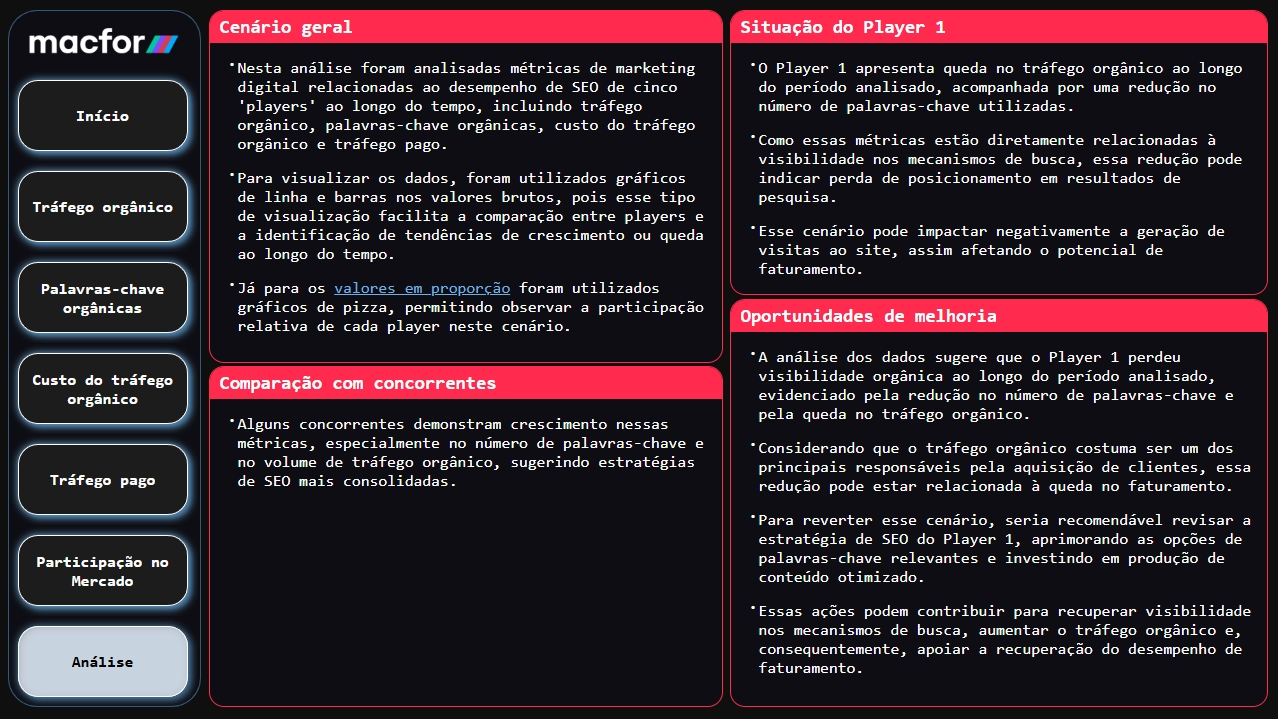

Layout of this report page (visuals, bound fields, positions):
{"tool":"powerbi","page":{"name":"Análise","canvas":[1280,720],"ordinal":6},"visuals":[{"type":"shape","box":[9,11,193,697],"z":0},{"type":"pageNavigator","box":[9,71,190,637],"z":1000},{"type":"image","box":[12,19,187,53],"z":2000},{"type":"textbox","title":"Situação do Player 1","box":[731,11,538,285],"z":3000},{"type":"textbox","title":"Cenário geral","box":[210,11,514,353],"z":4000},{"type":"textbox","title":"Oportunidades de melhoria","box":[731,300,538,408],"z":5000},{"type":"textbox","title":"Comparação com concorrentes","box":[210,367,514,341],"z":6000},{"type":"actionButton","box":[331,280,183,20],"z":7000}]}

Visuals, with their boxes in screenshot pixels (x1, y1, x2, y2), scaled from the page's 1280x720 canvas onto the 1278x719 screenshot:
shape: 9 11 202 707
pageNavigator: 9 71 199 707
image: 12 19 199 72
"Situação do Player 1" textbox: 730 11 1267 296
"Cenário geral" textbox: 210 11 723 363
"Oportunidades de melhoria" textbox: 730 300 1267 707
"Comparação com concorrentes" textbox: 210 366 723 707
actionButton: 330 280 513 300
